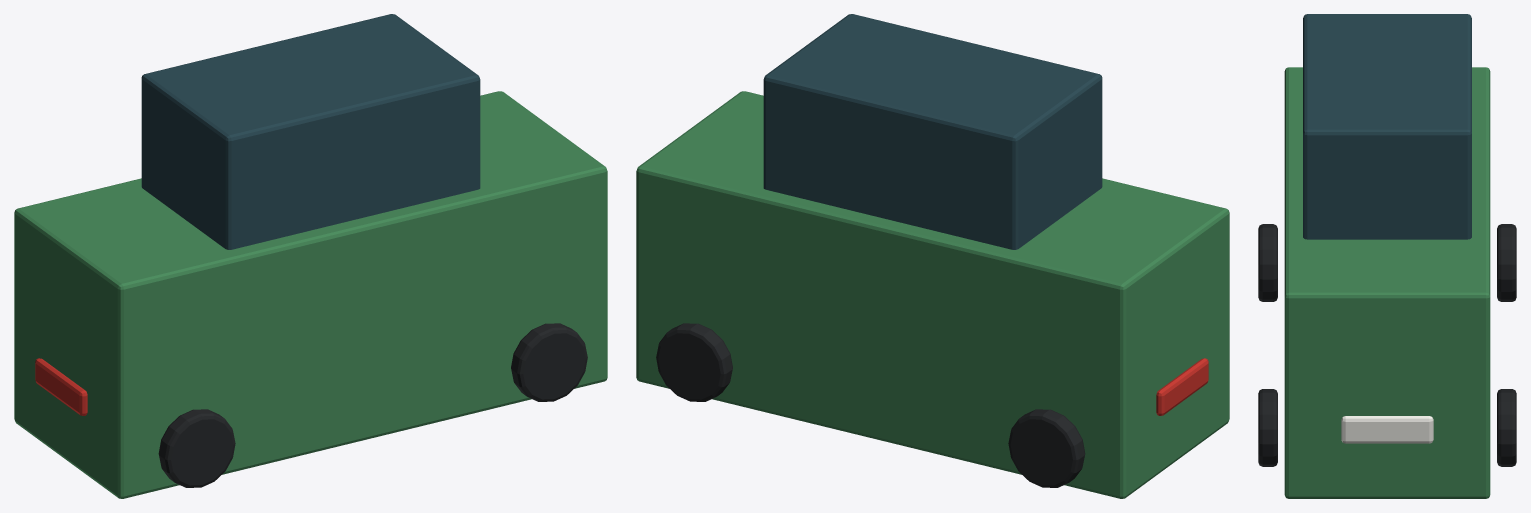
The model's file is Vehicle_020.glb.
The picture shows the model from 3 angles, left to right: view 1: azimuth 30°, elevation 25°; view 2: azimuth 150°, elevation 25°; view 3: azimuth 270°, elevation 25°; orthographic projection. The views are drawn at different scales.
Visible parts, largest first — view 1: Vehicle_020; view 2: Vehicle_020; view 3: Vehicle_020.
Part boxes in pixels (x1=…): Vehicle_020: x1=14, y1=14, x2=607, y2=498; Vehicle_020: x1=636, y1=14, x2=1229, y2=498; Vehicle_020: x1=1258, y1=14, x2=1516, y2=498.
Bounding box in the file's own units: 5.18 × 3.2 × 2.38.
